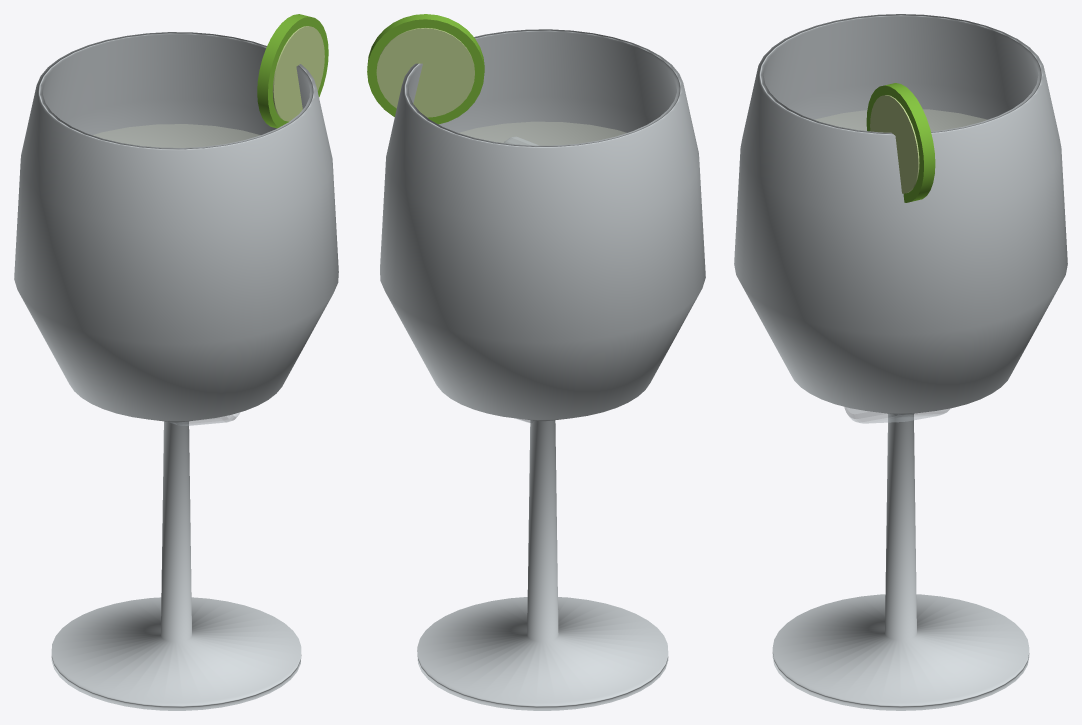
The model's file is cocktail-gin-mare.glb.
3 renders of one model, left to right at view 1: azimuth 30°, elevation 25°; view 2: azimuth 150°, elevation 25°; view 3: azimuth 270°, elevation 25°, orthographic. The views are drawn at different scales.
Bounding box in the file's own units: 0.1124 × 0.2154 × 0.104.
